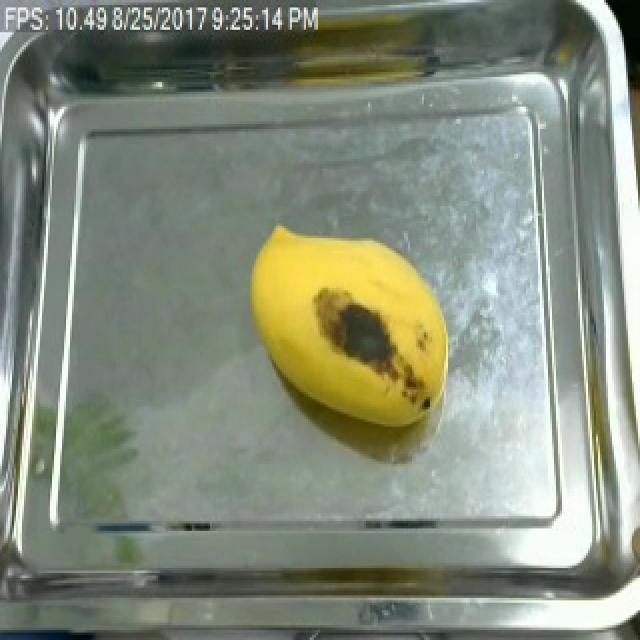fruit: (234, 216, 456, 441)
